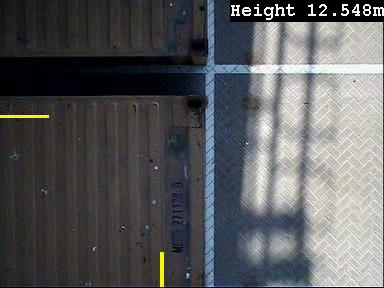groundmarker_2: (170, 54, 256, 97)
